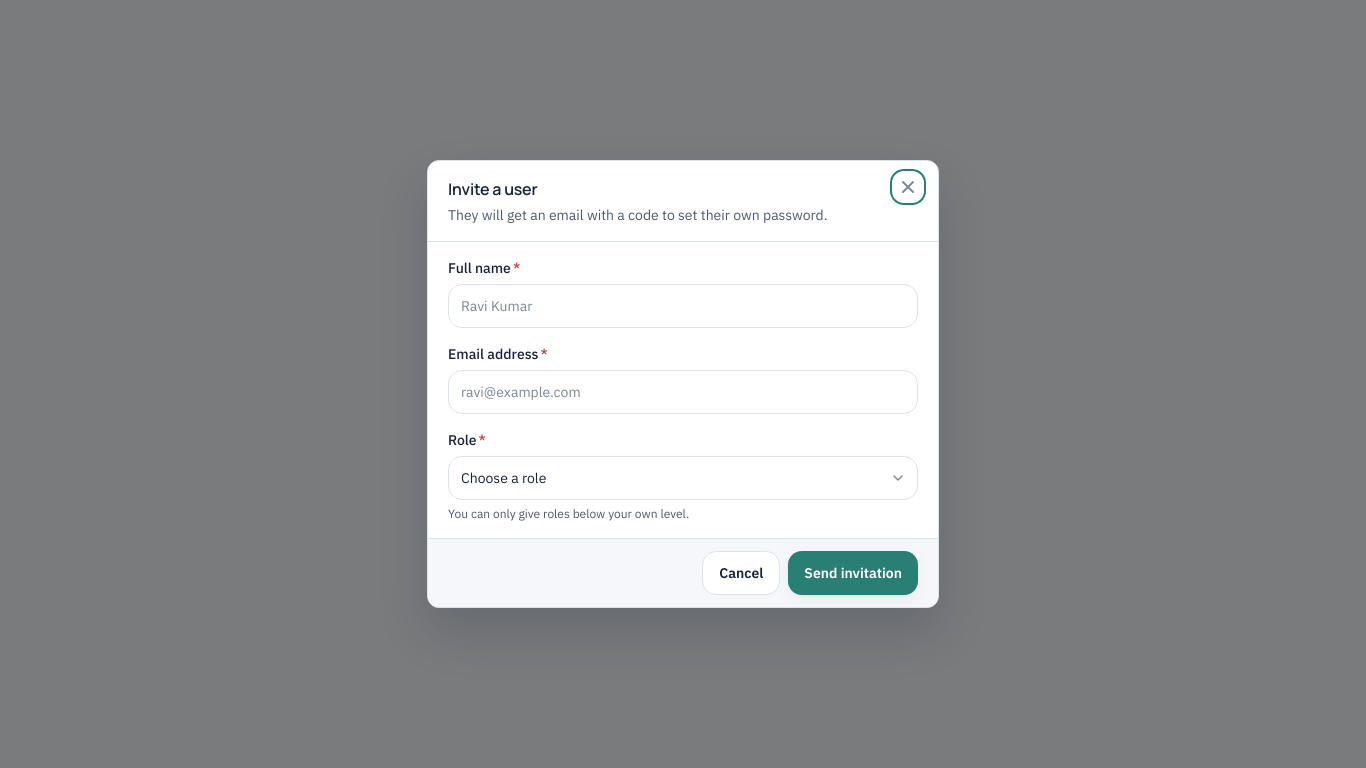
Test case: InviteUserModal › asks for a branch when the chosen role is branch-scoped
This screenshot has width=1366, height=768.
Expected: the dropdown labelled "Branch" is not shown
Select "Branch Admin" in the dropdown labelled "Role": (683, 478) [448, 456, 918, 500]
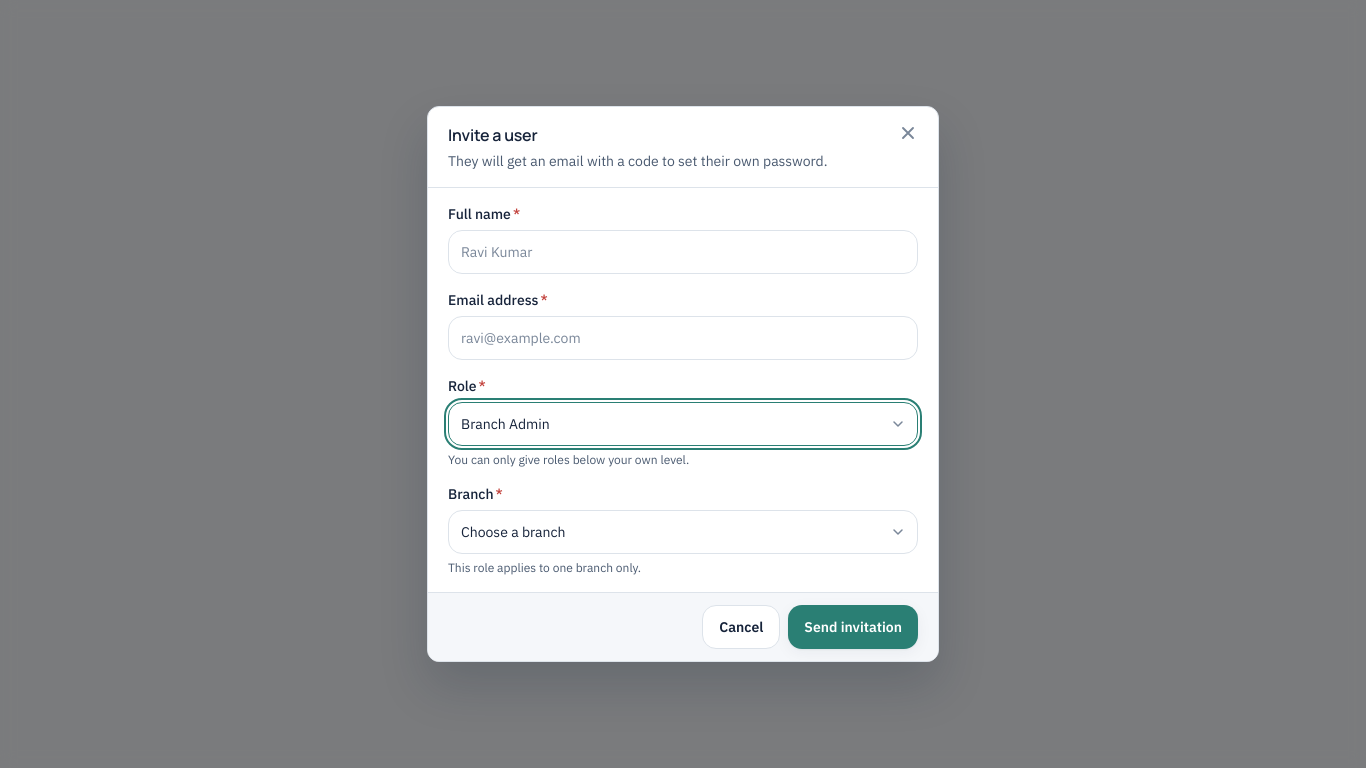
Expected: the dropdown labelled "Branch" is shown, [448, 510, 918, 554]
